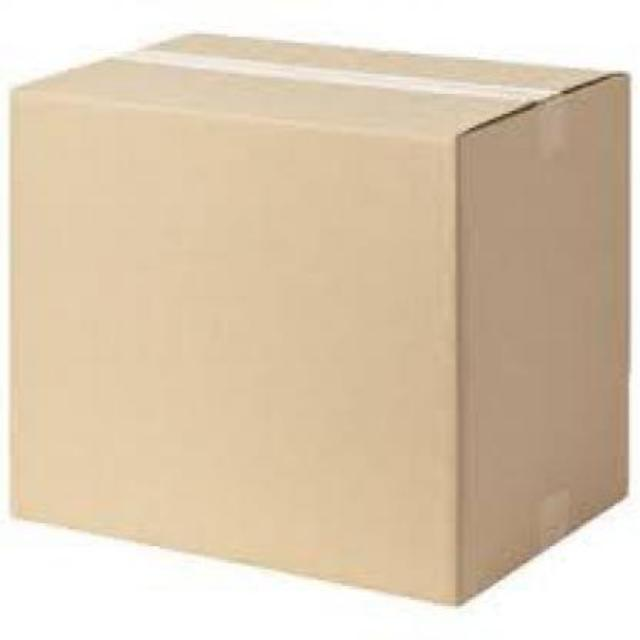cardboard_box: (12, 15, 628, 601)
